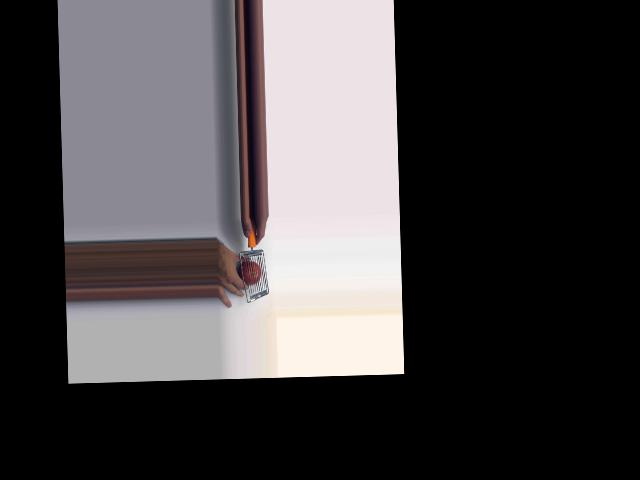tomato: (238, 260, 261, 284)
